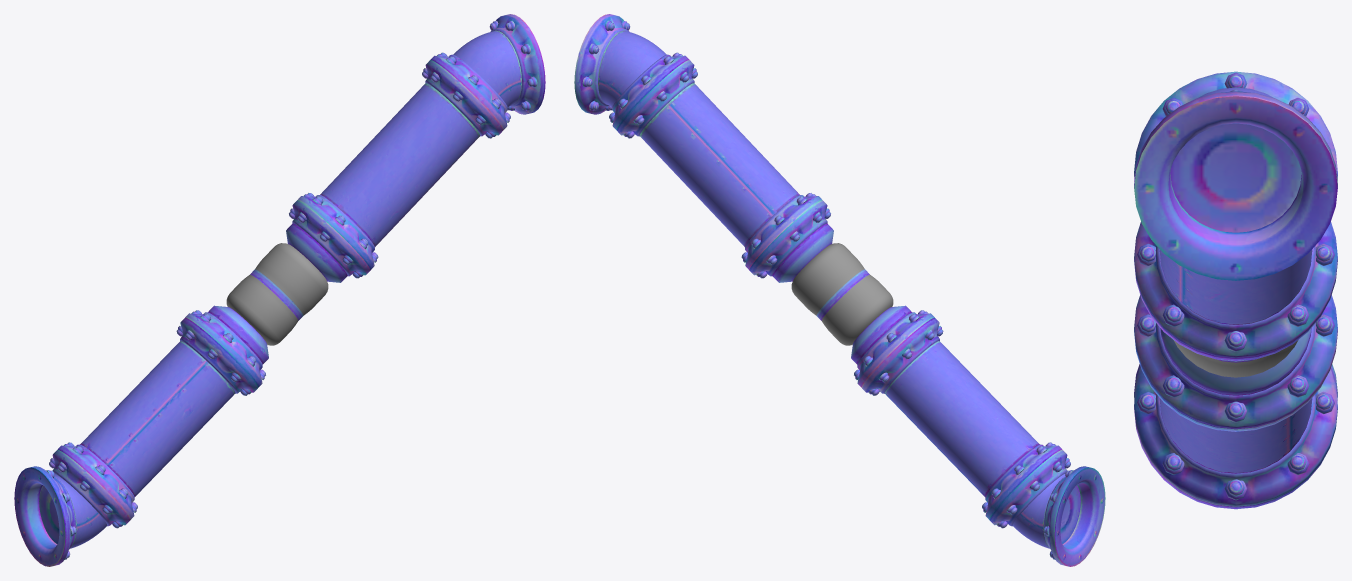
The model's file is Pipe_D160_A_Stairs_800x600_A.fbx.
3 renders of one model, left to right at view 1: azimuth 30°, elevation 25°; view 2: azimuth 150°, elevation 25°; view 3: azimuth 270°, elevation 25°, orthographic. The views are drawn at different scales.
Visible parts, largest first — view 1: Geom_Pipe_D160_A_Stairs_800x600_A_LOD00; view 2: Geom_Pipe_D160_A_Stairs_800x600_A_LOD00; view 3: Geom_Pipe_D160_A_Stairs_800x600_A_LOD00.
Part boxes in pixels (left/top/right/bottom): Geom_Pipe_D160_A_Stairs_800x600_A_LOD00: left=14, top=14, right=545, bottom=566; Geom_Pipe_D160_A_Stairs_800x600_A_LOD00: left=574, top=14, right=1105, bottom=566; Geom_Pipe_D160_A_Stairs_800x600_A_LOD00: left=1134, top=71, right=1337, bottom=509.
Size of what is drawn, in the model's own units: 897 by 165 by 765.
